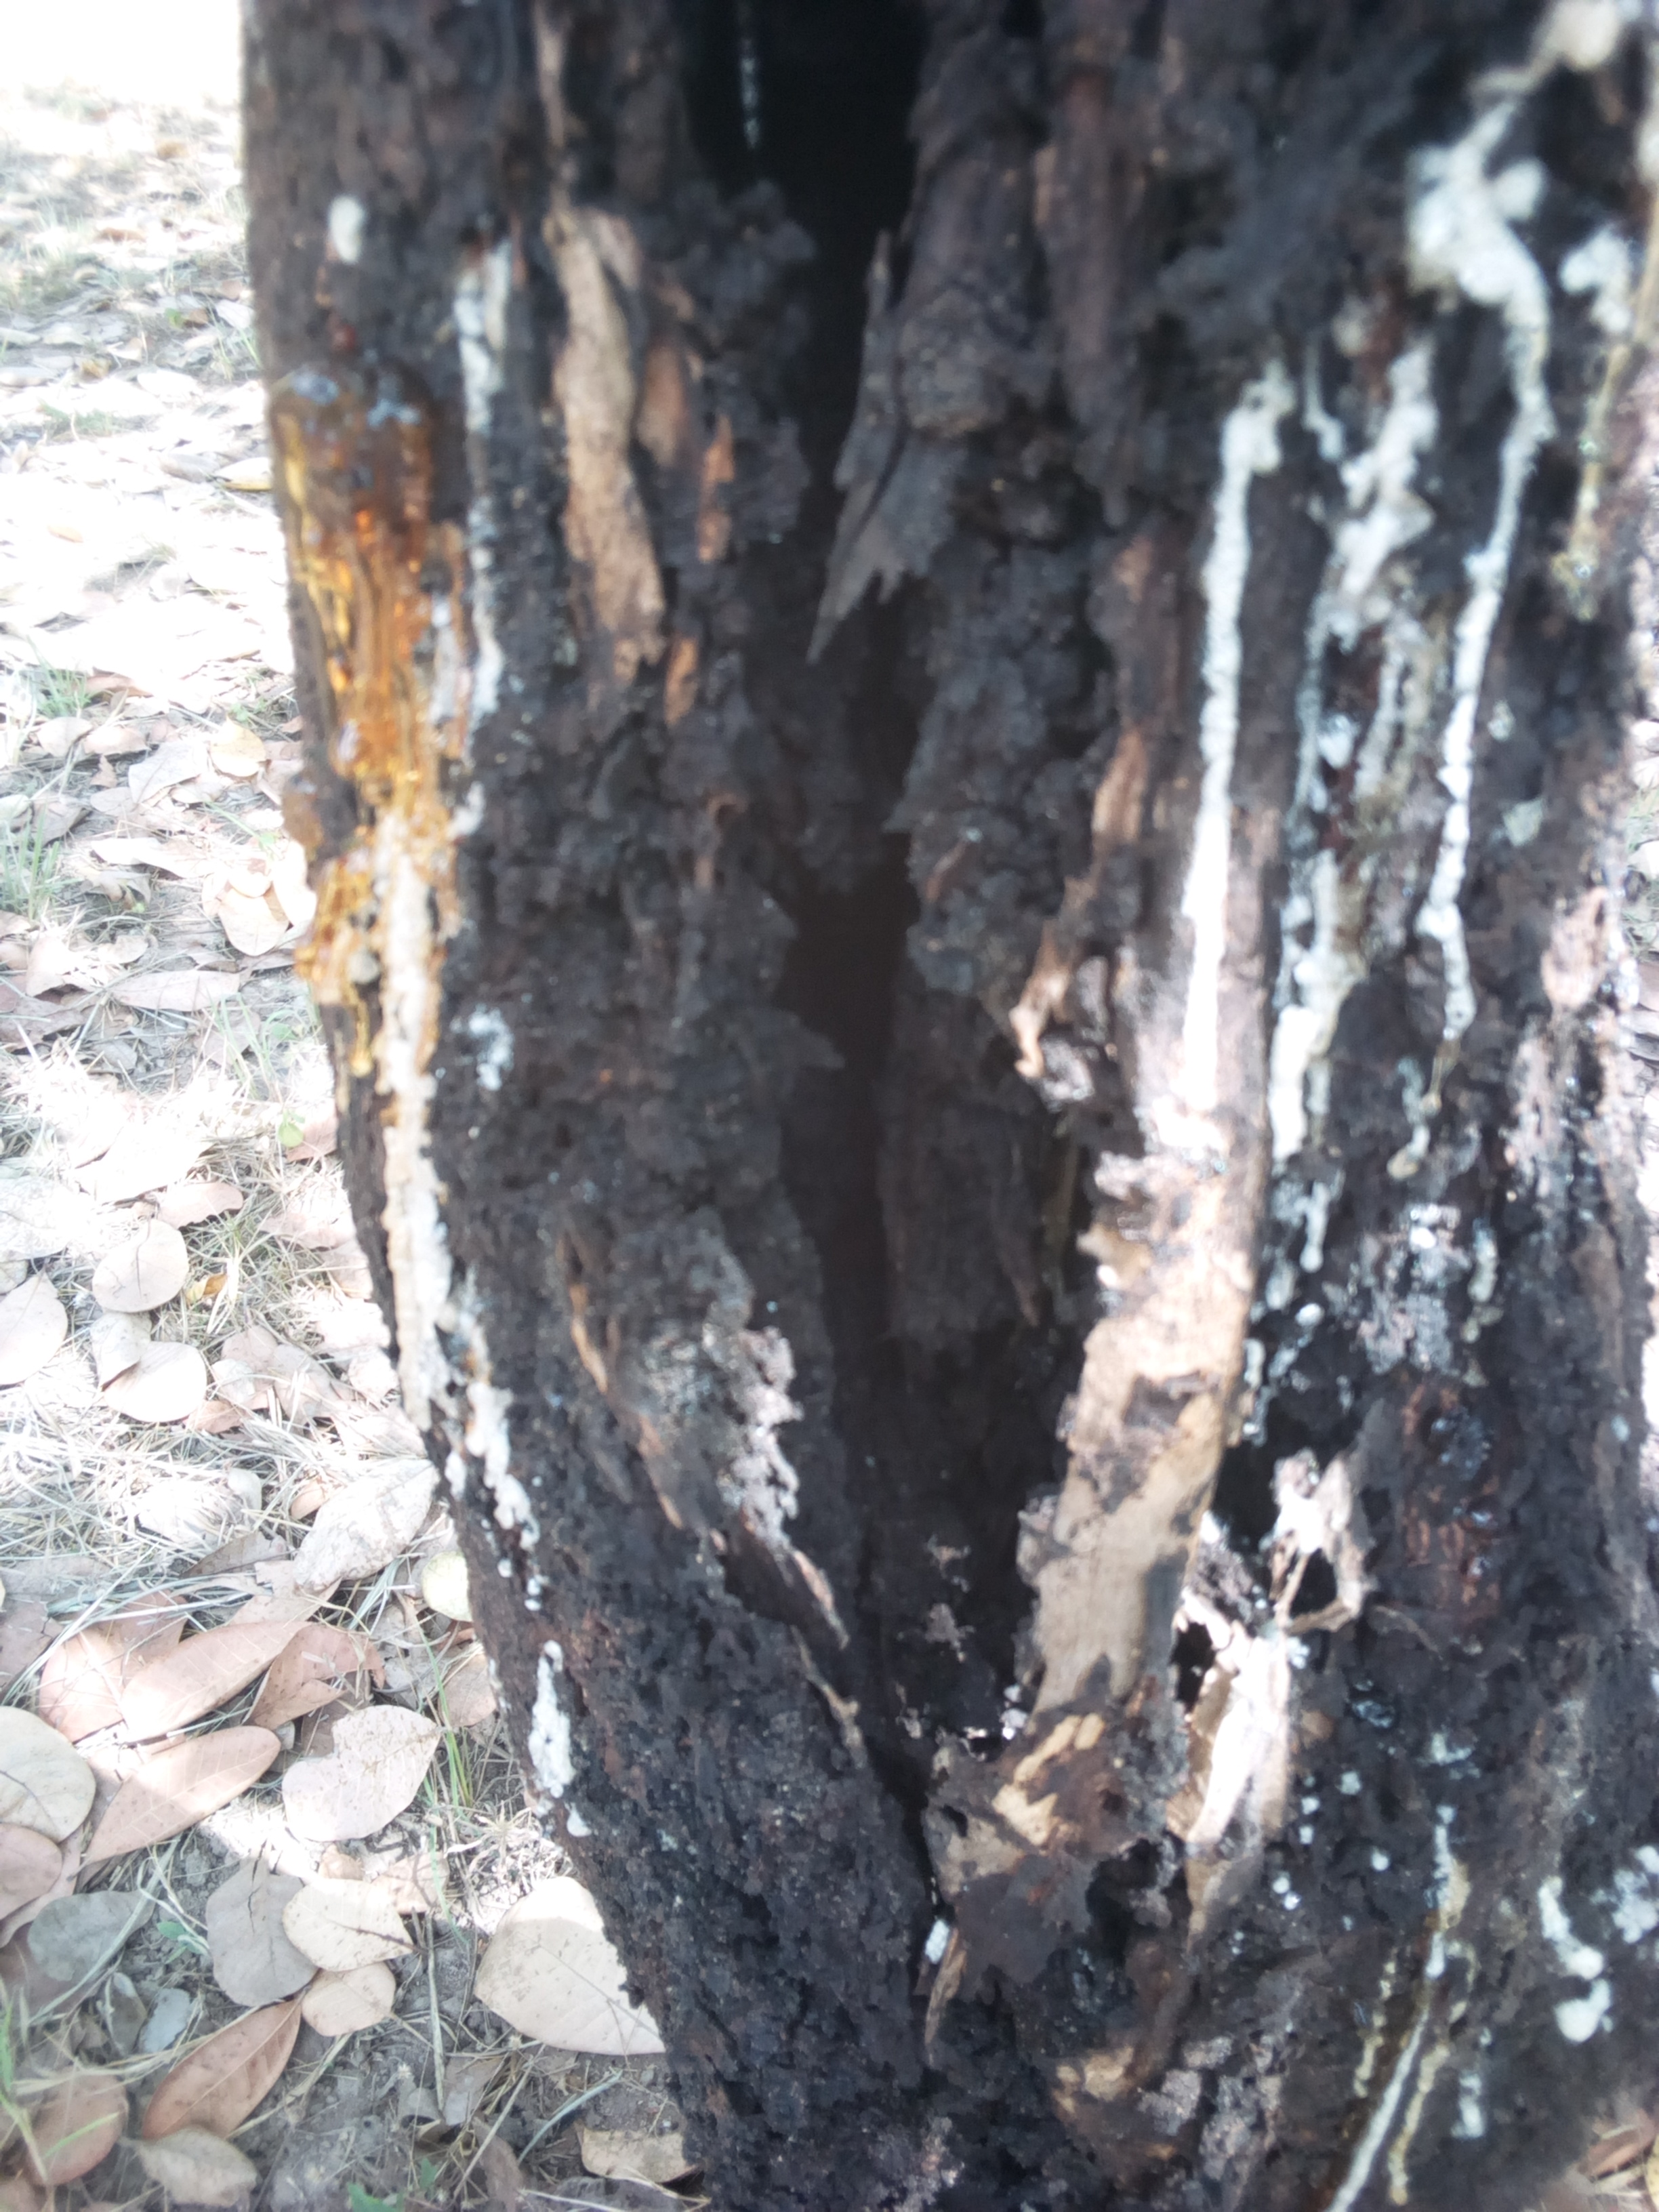Gommose: (267, 347, 507, 1271)
